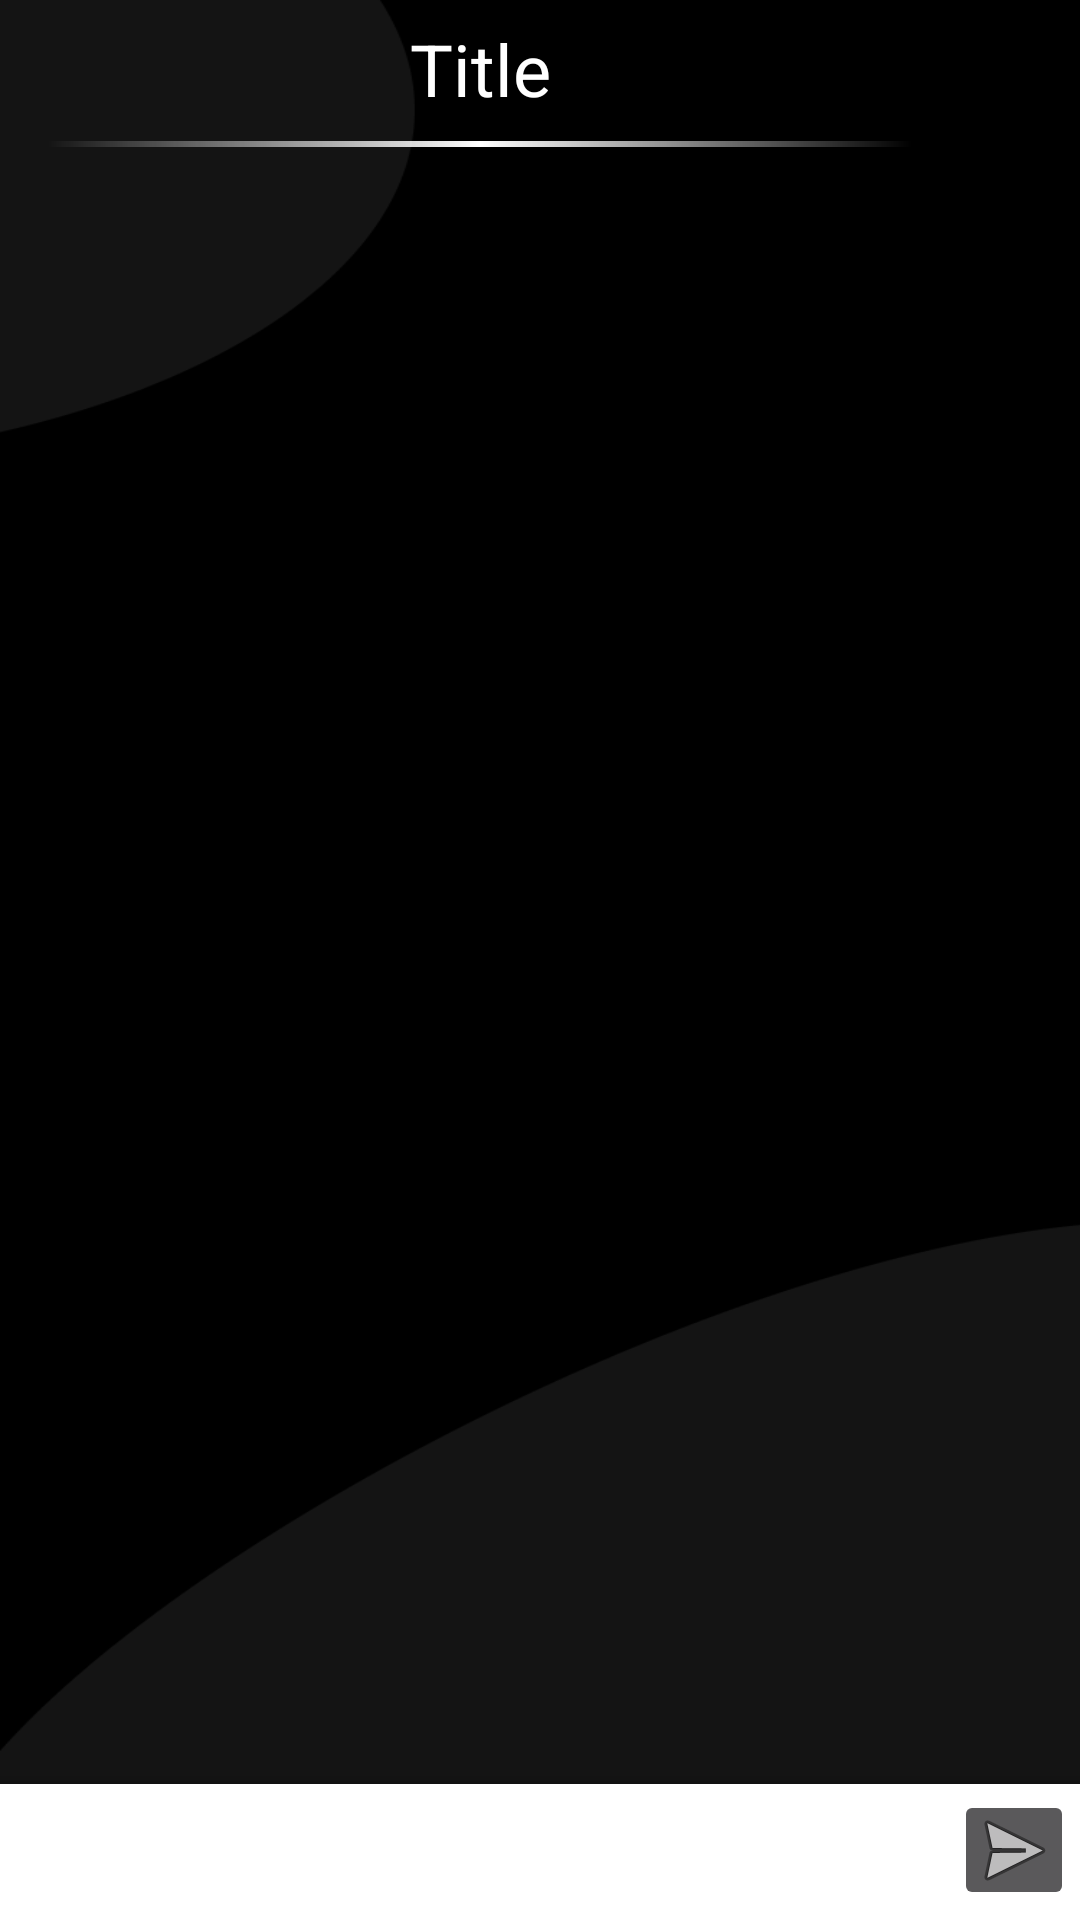

Point at icon controls on the screen. Image size 1080 x 1920, points as (x,y).
send: (1014,1850)
